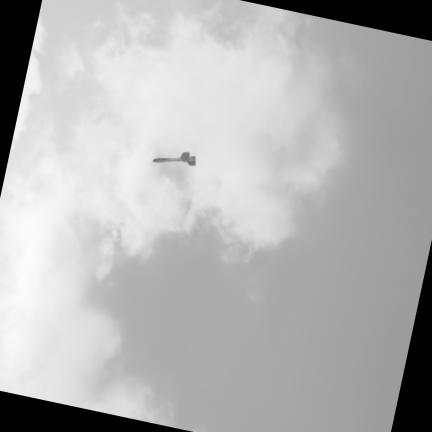Shahed: (152, 152, 194, 166)
